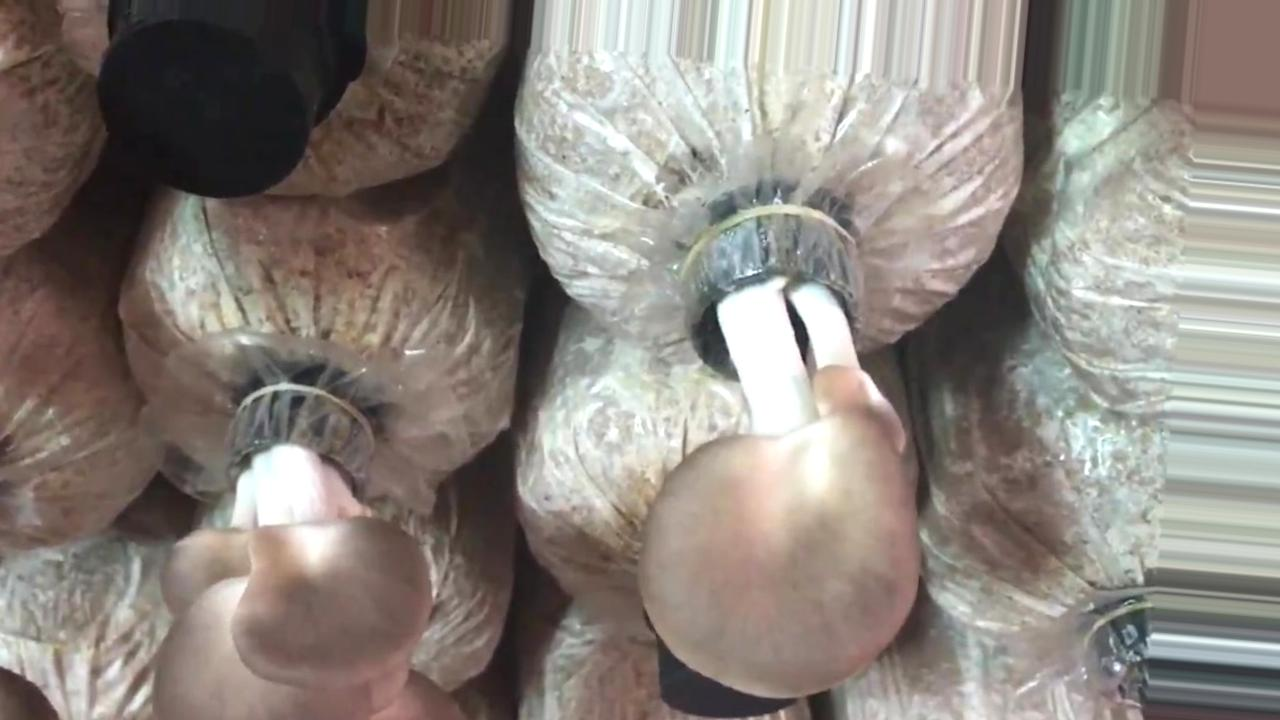nam: (643, 217, 920, 698), (154, 380, 455, 720)
